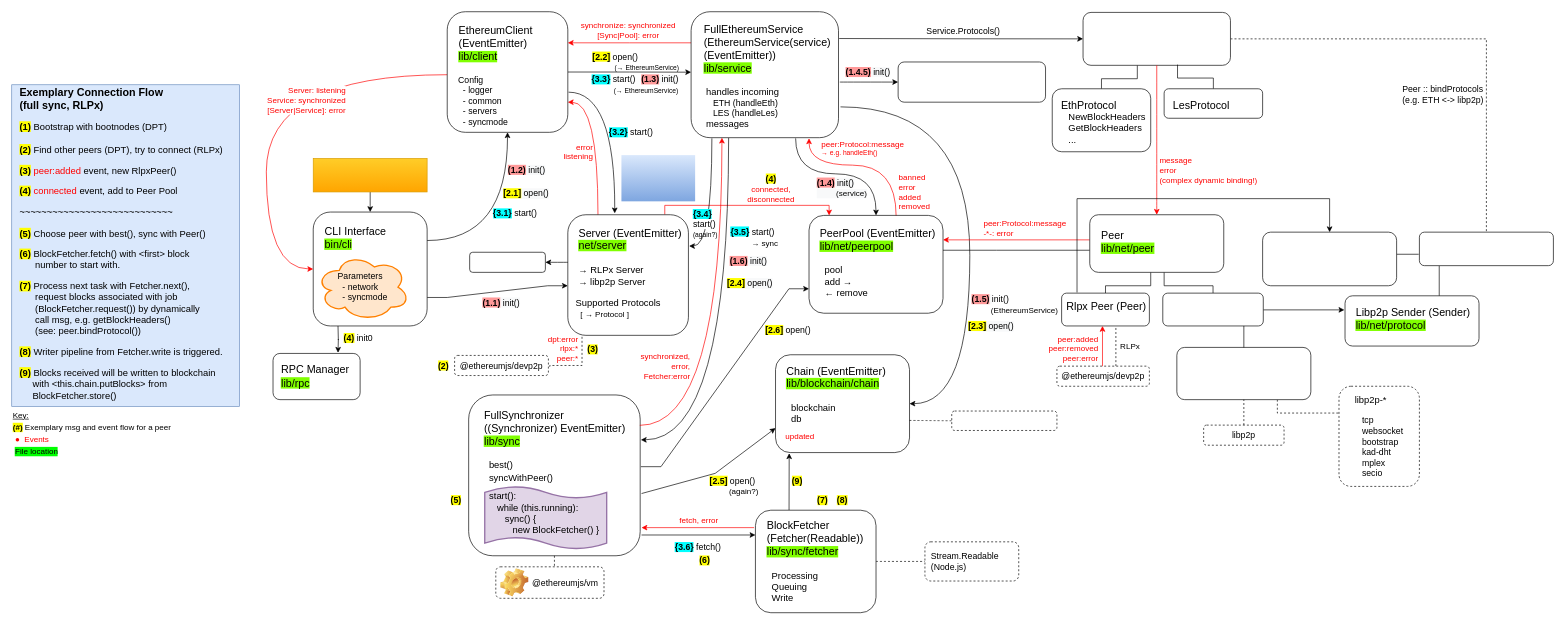
This 1565x626 diagram has some shape labels left out. Each missing label, with the centre of its shape:
./ethereumjs: the point at 370,175
@ethereumjs/blockchain: the point at 1004,420
e.g. new RlpxPeer: the point at 507,262
Flow Control lib/net/protocol/flowcontrol: the point at 971,81
initDPT initRLPx DPT.bootstrap() Go! ♥: the point at 658,178
Libp2p Node (libp2p) lib/net/peer: the point at 1243,373
Libp2p Peer (Peer): the point at 1212,309
Protocol (EventEmitter) lib/net/protocol: the point at 1156,38
Rlpx Sender (Sender) lib/net/protocol: the point at 1329,258
Sender (EventEmitter): the point at 1486,248
